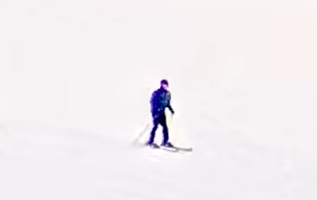skier: (128, 76, 197, 156)
